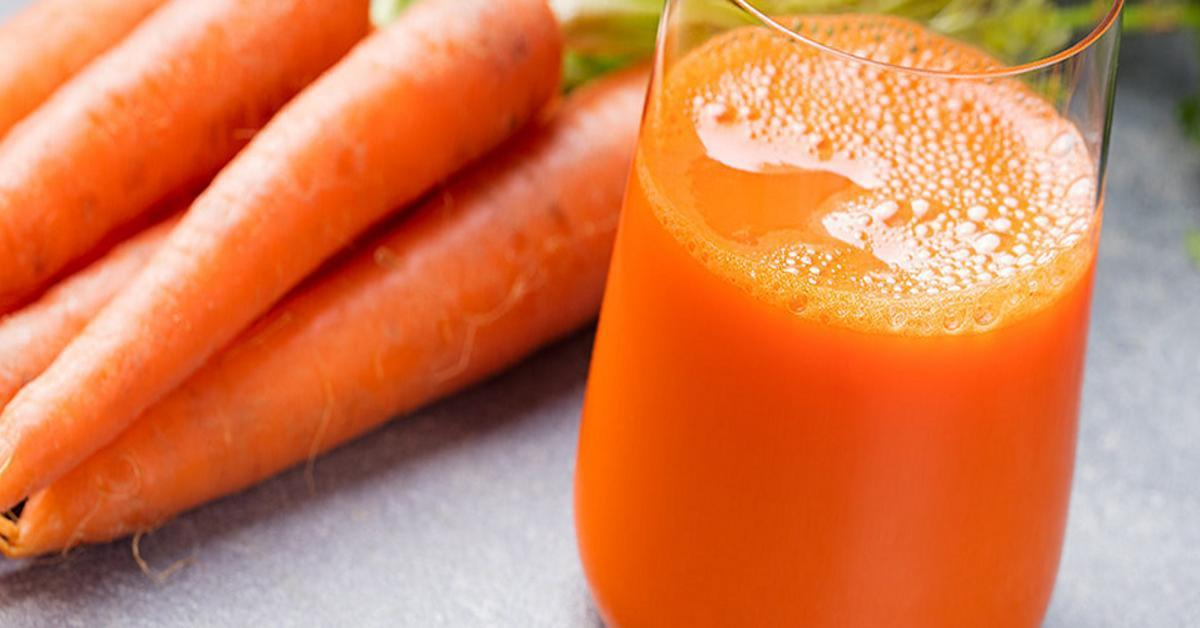carrot: (0, 0, 645, 566)
